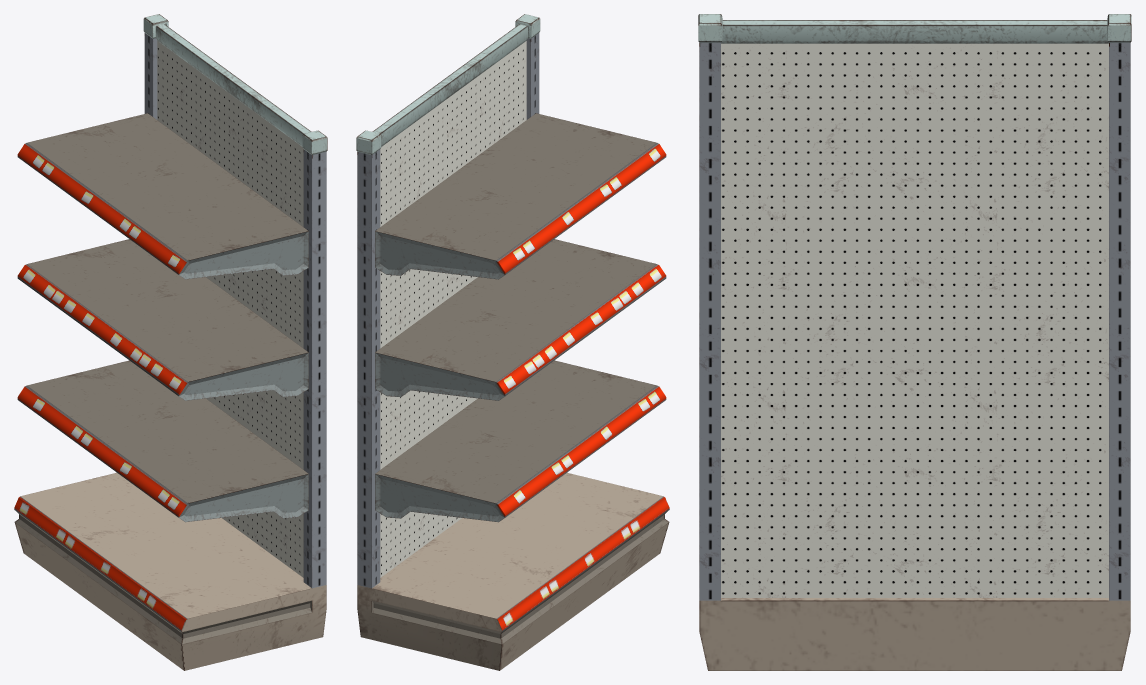
File: shelves2.glb
3 renders of one model, left to right at view 1: azimuth 30°, elevation 25°; view 2: azimuth 150°, elevation 25°; view 3: azimuth 270°, elevation 25°, orthographic. The views are drawn at different scales.
Visible parts, largest first — view 1: shelf_Base_Expo006, shelf_piece_exp022, shelf_piece_exp021, shelf_piece_exp020; view 2: shelf_Base_Expo006, shelf_piece_exp022, shelf_piece_exp021, shelf_piece_exp020; view 3: shelf_Base_Expo006.
Part boxes in pixels (x1,y1,x2,y2): shelf_Base_Expo006: (14,14,327,670); shelf_piece_exp022: (17,113,308,279); shelf_piece_exp021: (17,239,308,400); shelf_piece_exp020: (17,360,308,522); shelf_Base_Expo006: (356,14,669,670); shelf_piece_exp022: (375,113,666,279); shelf_piece_exp021: (375,239,666,400); shelf_piece_exp020: (375,360,666,522); shelf_Base_Expo006: (698,14,1131,670).
Bounding box in the file's own units: 1.28 × 4.21 × 2.55.
Materials: 2 (2 with a texture image).
